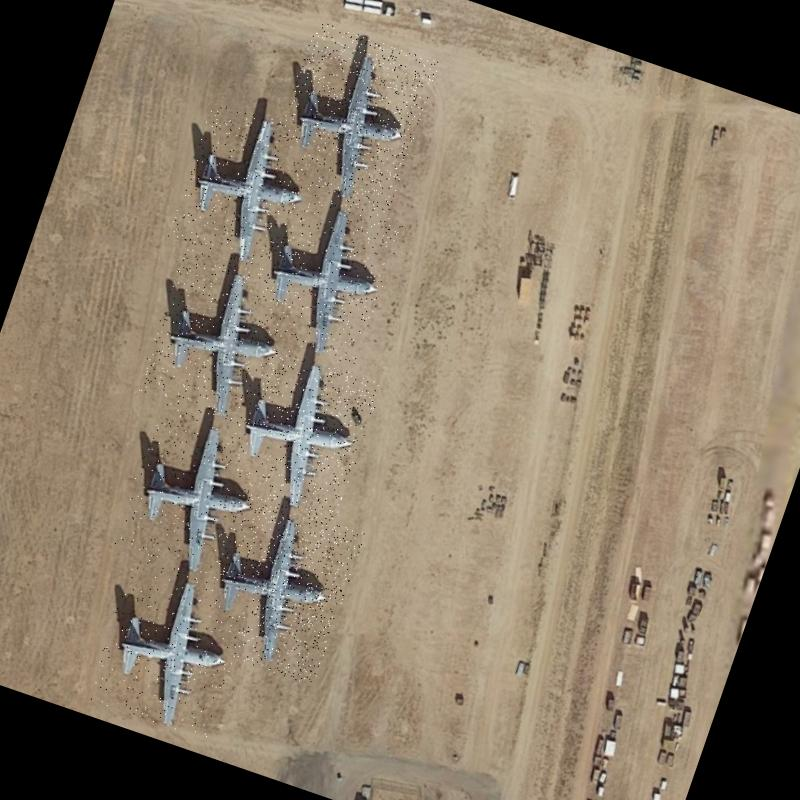A2: (263, 20, 440, 216), (190, 492, 366, 686), (112, 398, 282, 584), (86, 554, 256, 740), (136, 248, 300, 430), (220, 344, 384, 524), (166, 99, 330, 277), (248, 186, 405, 367)
